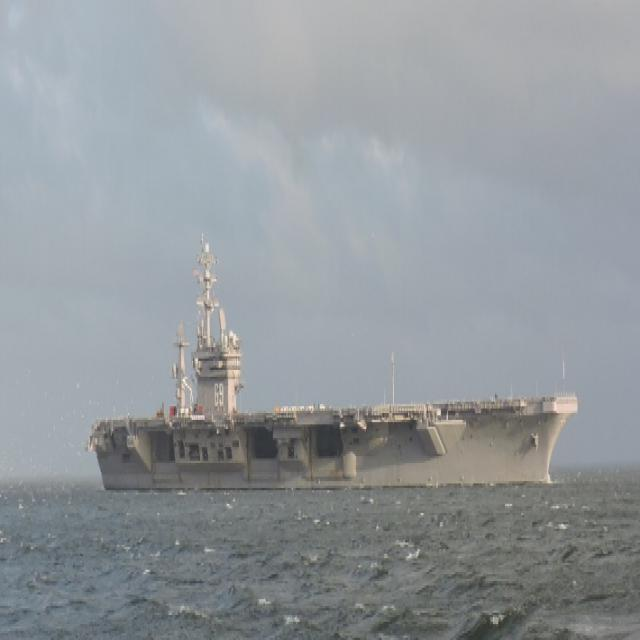Portanaves: (90, 228, 581, 498)
